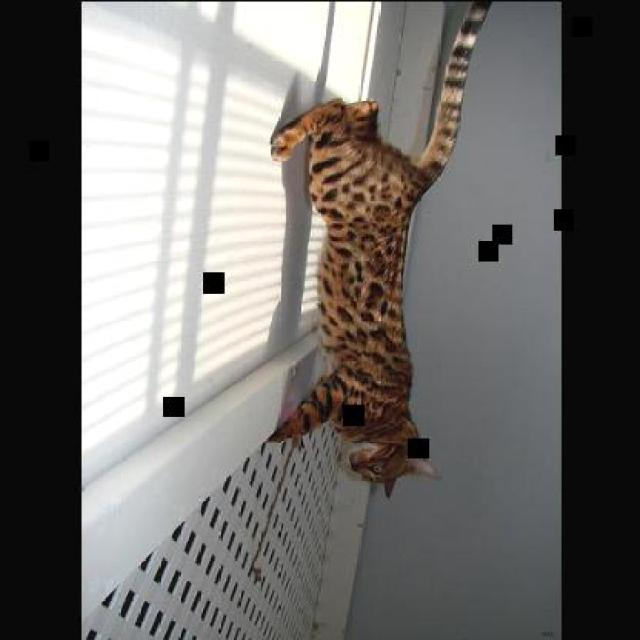unauthorized: (259, 0, 495, 498)
